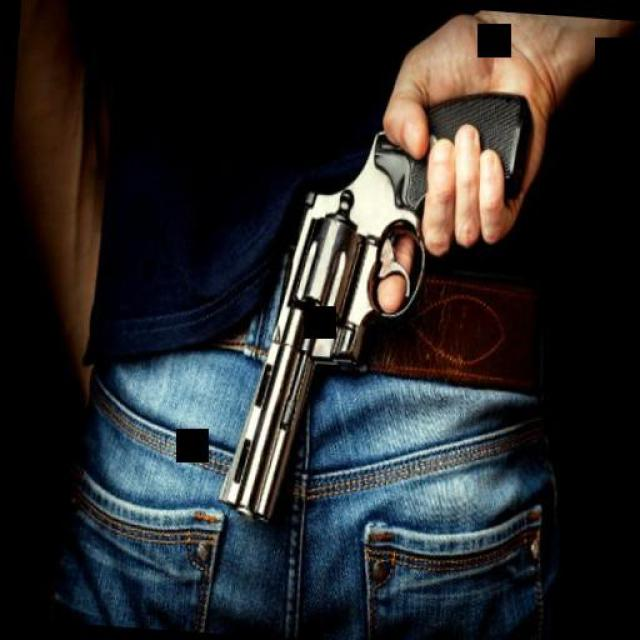gun: (214, 65, 536, 539)
